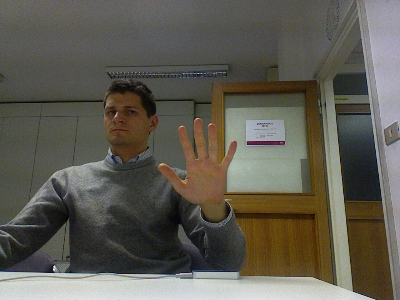布: (157, 116, 238, 206)
